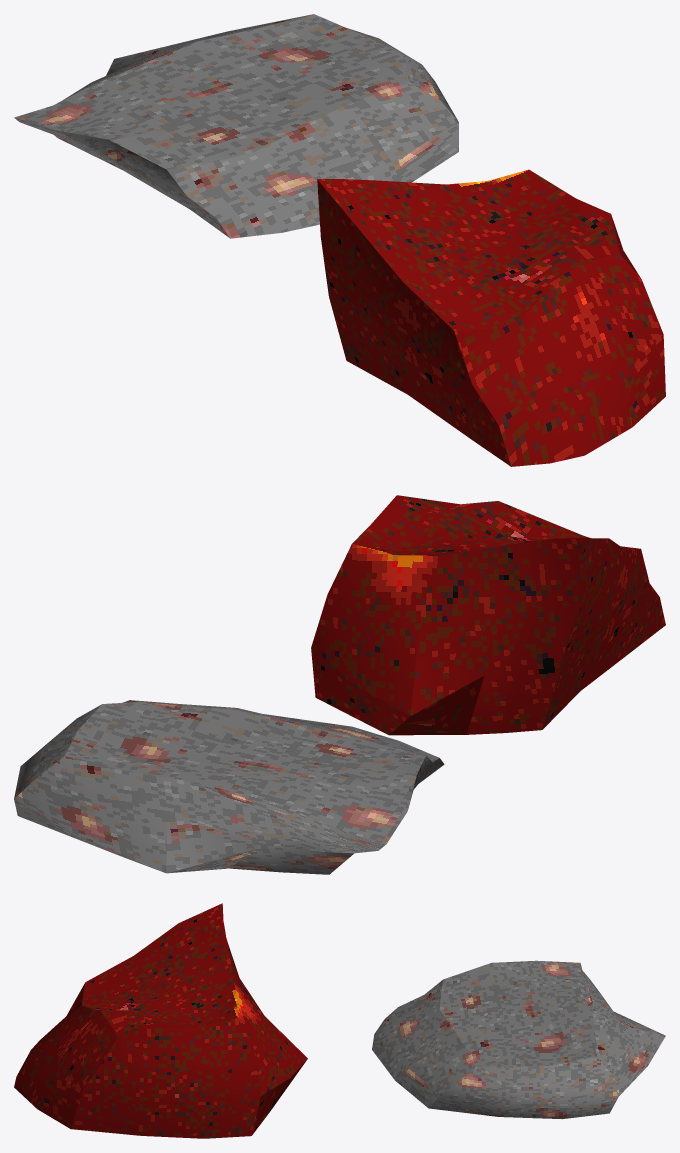
Rendered from Flesh.glb.
3 views of the same model, one above another, from view 1: azimuth 30°, elevation 25°; view 2: azimuth 150°, elevation 25°; view 3: azimuth 270°, elevation 25° (orthographic). The views are drawn at different scales.
Visible parts, largest first — view 1: Flesh_2, Flesh_1; view 2: Flesh_2, Flesh_1; view 3: Flesh_2, Flesh_1.
Boxes of the visible parts, x1,y1,x2,y2 form: Flesh_2: (317,169,665,466); Flesh_1: (14,14,458,238); Flesh_2: (311,495,665,735); Flesh_1: (14,700,444,874); Flesh_2: (14,903,307,1138); Flesh_1: (372,960,665,1119).
Bounding box in the file's own units: 1.06 × 0.5737 × 2.25.
Materials: 2 (2 with a texture image).
